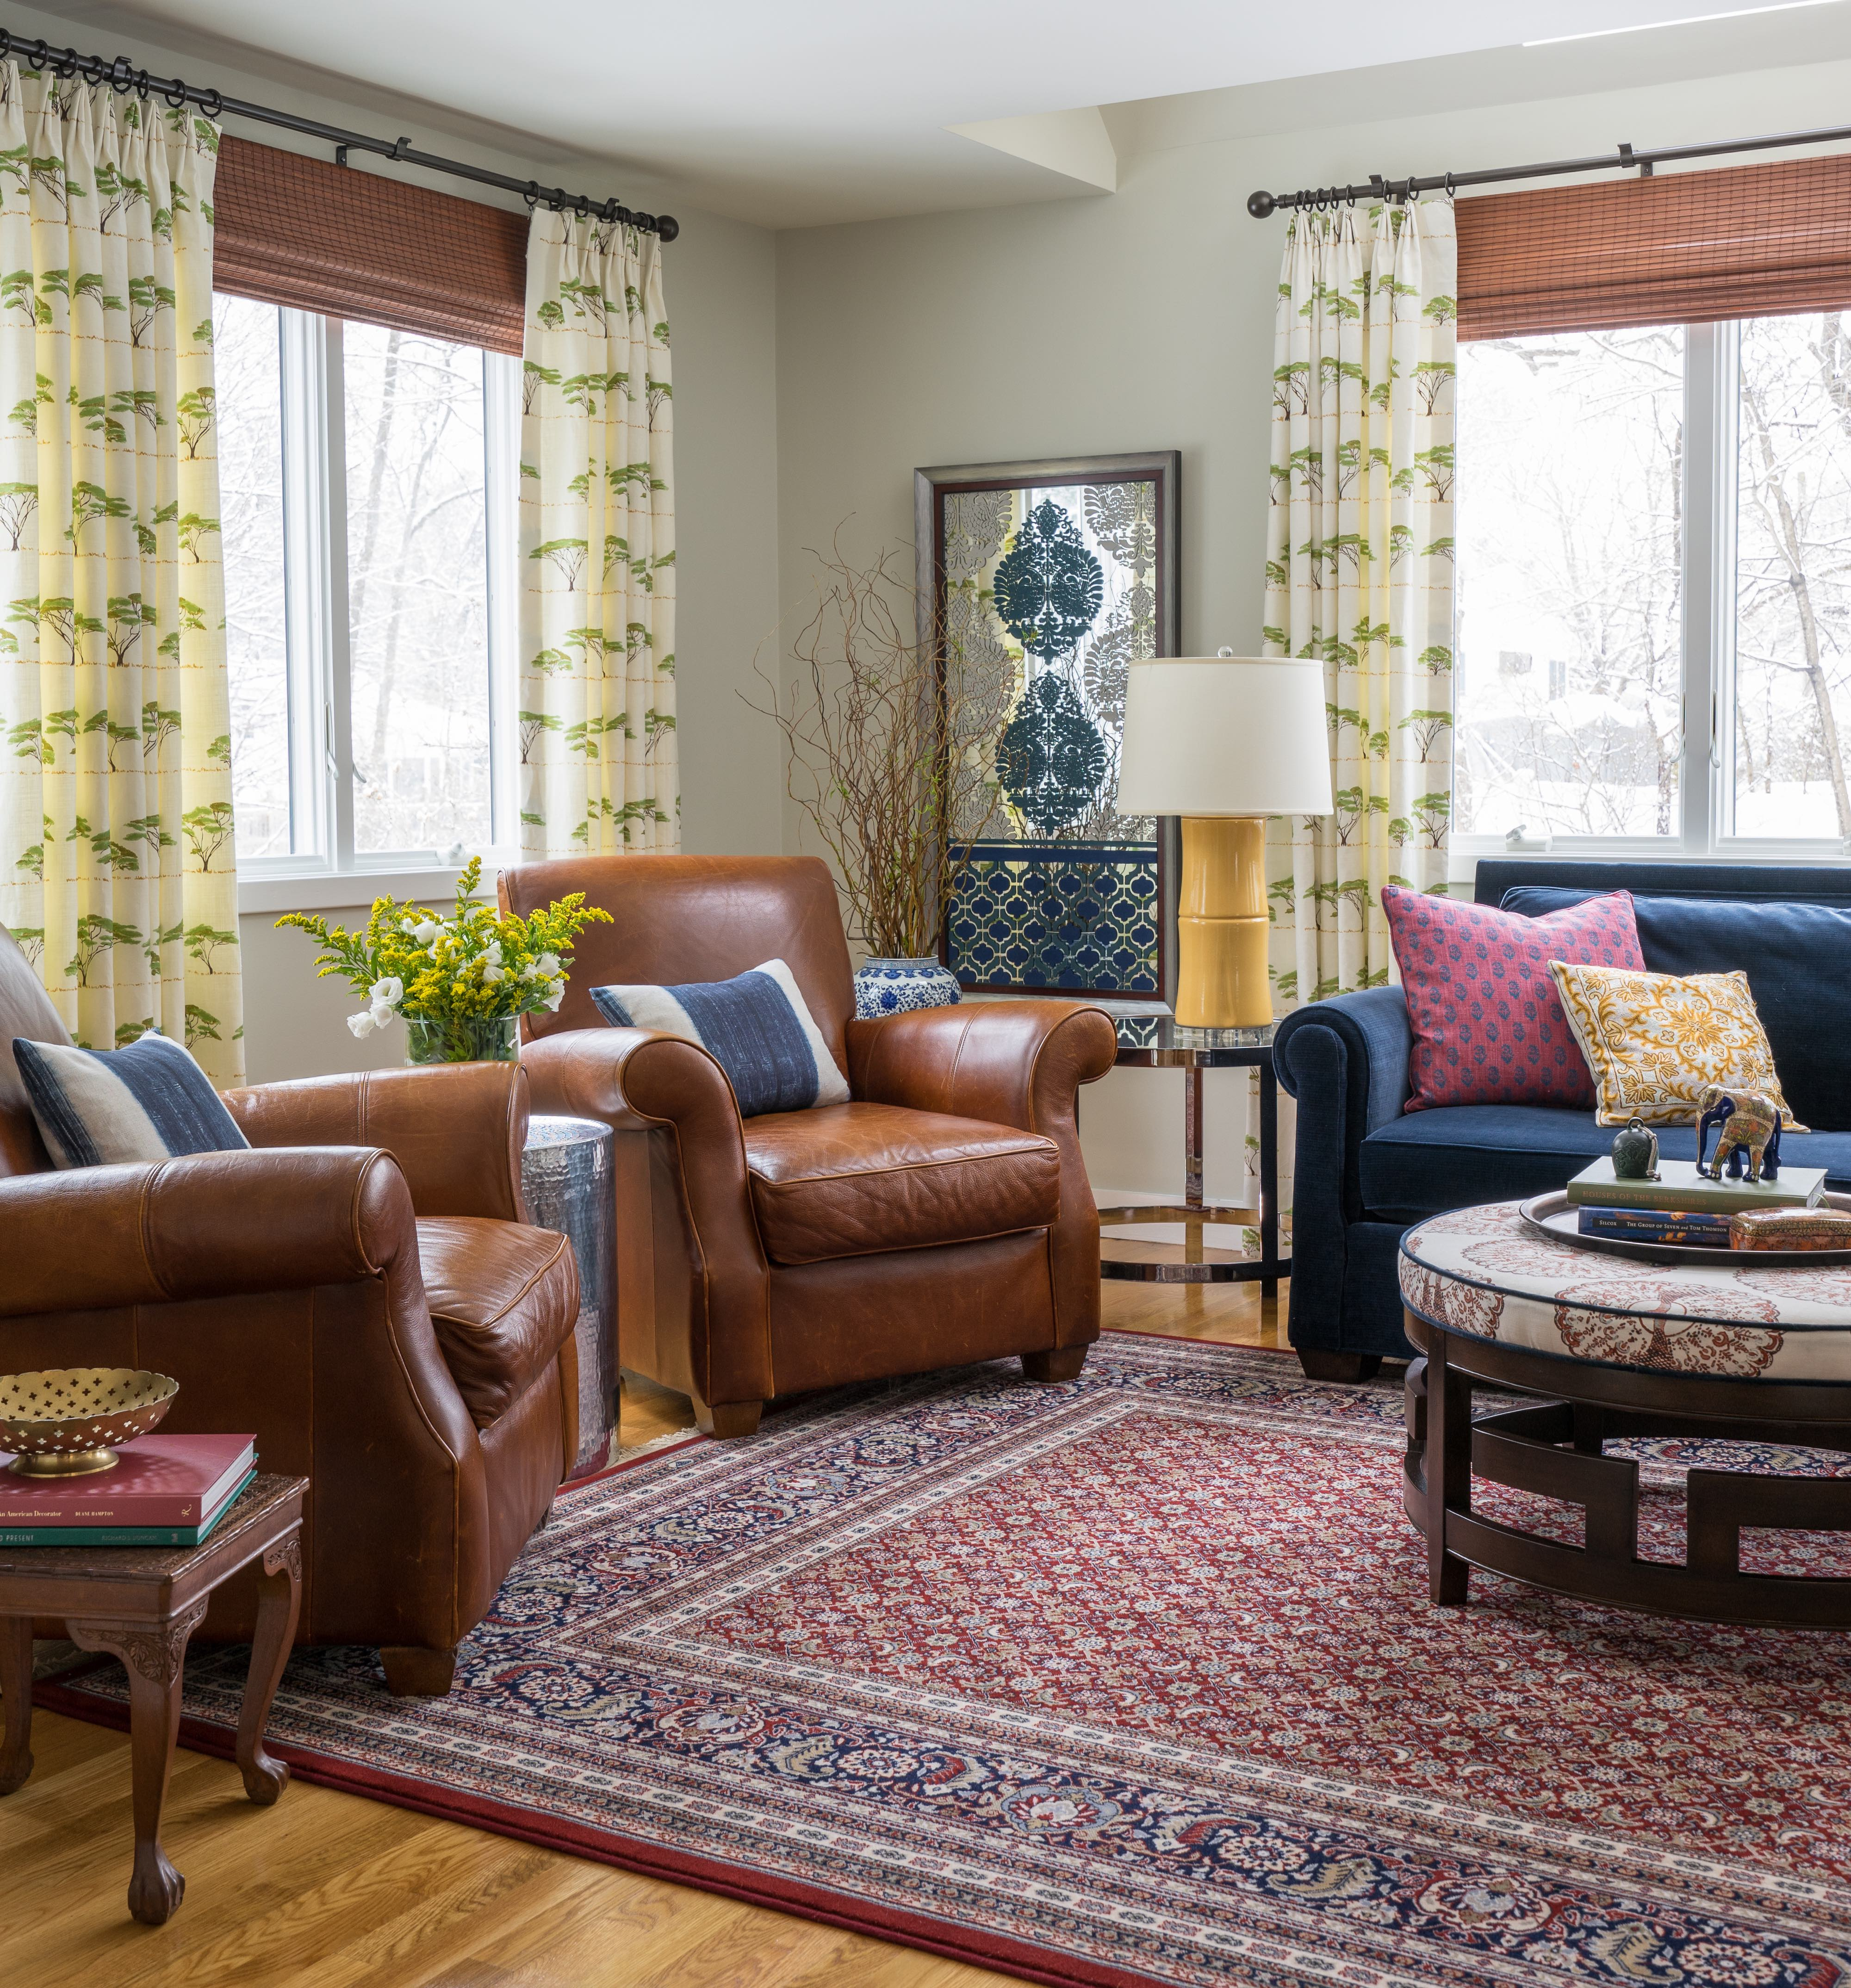biru: (668, 979, 819, 1104)
coklat: (5, 1070, 581, 1624), (621, 840, 1093, 1383), (0, 1480, 315, 1894)
pink: (1385, 892, 1614, 1108)
putih: (1112, 650, 1341, 830)
